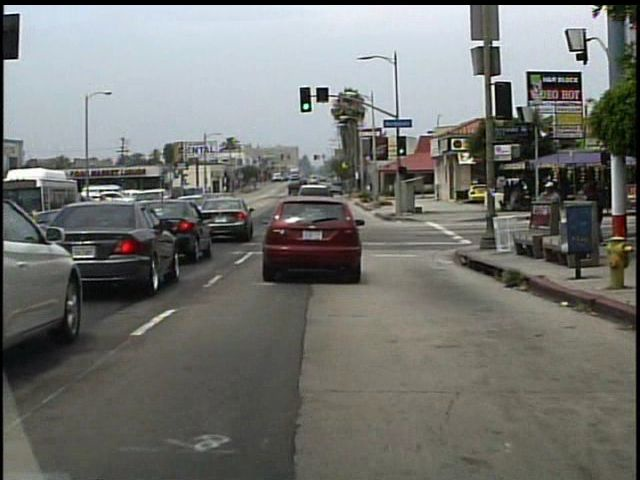person: (536, 175, 563, 250), (585, 178, 604, 245)
